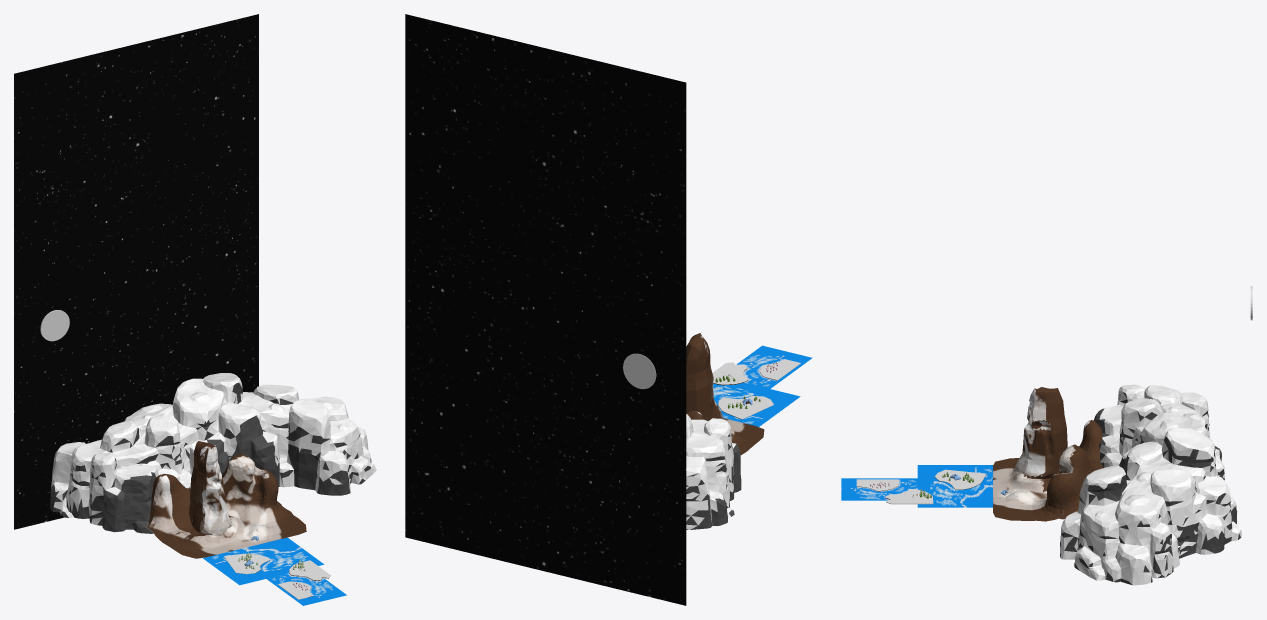
File: icy landsape.fbx
3 views of the same model, side by side, from view 1: azimuth 30°, elevation 25°; view 2: azimuth 150°, elevation 25°; view 3: azimuth 270°, elevation 25° (orthographic). The views are drawn at different scales.
Visible parts, largest first — view 1: BB8 codyweaverdesigncom, cliff, Plane.033, Plane.007, Plane, Circle, Plane.005, Plane.002; view 2: BB8 codyweaverdesigncom, cliff, Plane.033, Plane.007, Plane, Circle, Plane.005, Plane.002; view 3: cliff, Plane.033, Plane.007, Plane, Plane.005, Plane.002.
Boxes of the visible parts, bbox=[...] form: BB8 codyweaverdesigncom: bbox=[14, 14, 258, 529]; cliff: bbox=[50, 373, 376, 533]; Plane.033: bbox=[147, 441, 306, 558]; Plane.007: bbox=[203, 537, 324, 585]; Plane: bbox=[266, 573, 346, 605]; Circle: bbox=[40, 310, 69, 341]; Plane.005: bbox=[224, 553, 269, 574]; Plane.002: bbox=[289, 560, 330, 580]; BB8 codyweaverdesigncom: bbox=[405, 14, 686, 605]; cliff: bbox=[686, 414, 741, 529]; Plane.033: bbox=[686, 333, 764, 454]; Plane.007: bbox=[713, 382, 800, 426]; Plane: bbox=[736, 345, 812, 388]; Circle: bbox=[623, 353, 656, 389]; Plane.005: bbox=[718, 396, 773, 419]; Plane.002: bbox=[712, 362, 747, 384]; cliff: bbox=[1060, 384, 1241, 585]; Plane.033: bbox=[993, 387, 1102, 521]; Plane.007: bbox=[917, 465, 993, 507]; Plane: bbox=[841, 478, 917, 500]; Plane.005: bbox=[935, 469, 986, 489]; Plane.002: bbox=[885, 489, 933, 504].
Bounding box in the file's own units: 32683 × 48044 × 38167.
13 materials, 5 textured.
